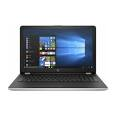laptop: (11, 19, 111, 94)
